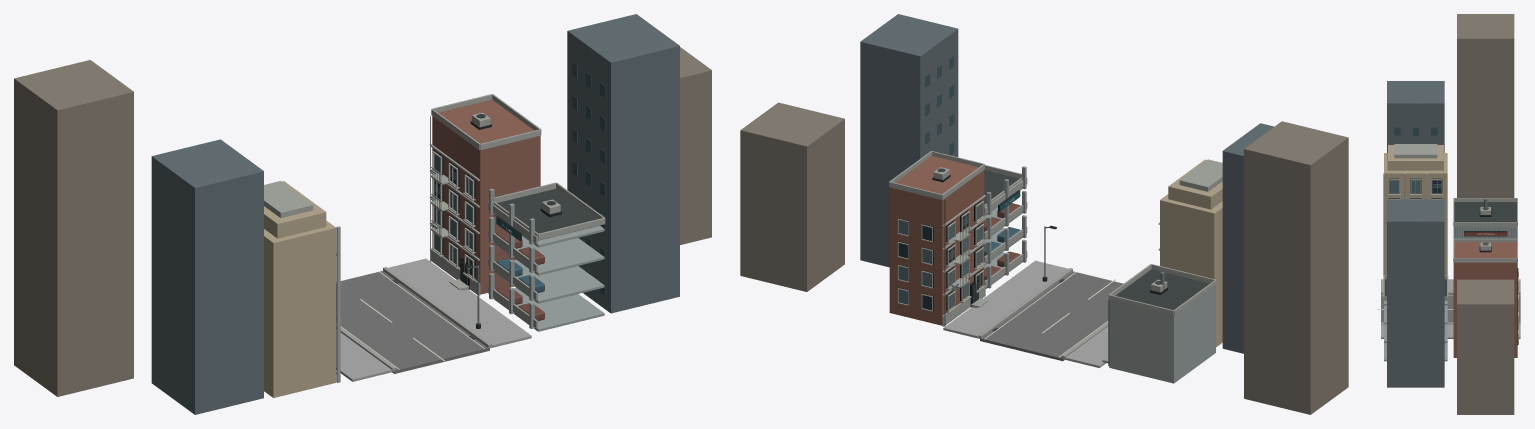
The model's file is city_hd_22.glb.
3 renders of one model, left to right at view 1: azimuth 30°, elevation 25°; view 2: azimuth 150°, elevation 25°; view 3: azimuth 270°, elevation 25°, orthographic. The views are drawn at different scales.
Visible parts, largest first — view 1: CITY_distant_2, CITY_distant_3, CITY_wall_sand, Masonry apartment volume, CITY_PBR_asphalt, CITY_trim, CITY_wall_gray, CITY_PBR_pavement, CITY_roof, CITY_frame, CITY_distant_window, CITY_curb (+3 smaller); view 2: CITY_distant_3, CITY_distant_2, Masonry apartment volume, CITY_wall_gray, CITY_PBR_asphalt, CITY_trim, CITY_wall_sand, CITY_PBR_pavement, CITY_roof, CITY_frame, CITY_glass, CITY_curb (+4 smaller); view 3: CITY_distant_3, CITY_distant_2, CITY_wall_sand, Masonry apartment volume, CITY_trim, CITY_roof, CITY_wall_gray, CITY_frame, CITY_PBR_asphalt, CITY_PBR_pavement, CITY_glass, CITY_recess (+5 smaller).
Boxes of the visible parts, x1,y1,x2,y2 form: CITY_distant_2: [151, 14, 679, 414]; CITY_distant_3: [14, 47, 711, 396]; CITY_wall_sand: [264, 181, 335, 397]; Masonry apartment volume: [432, 99, 540, 294]; CITY_PBR_asphalt: [336, 271, 489, 373]; CITY_trim: [264, 94, 605, 382]; CITY_wall_gray: [489, 188, 604, 331]; CITY_PBR_pavement: [336, 258, 531, 381]; CITY_roof: [480, 150, 601, 240]; CITY_frame: [432, 151, 474, 278]; CITY_distant_window: [572, 62, 605, 295]; CITY_curb: [336, 267, 491, 371]; CITY_distant_3: [740, 102, 1348, 414]; CITY_distant_2: [860, 14, 1273, 353]; Masonry apartment volume: [889, 156, 984, 325]; CITY_wall_gray: [984, 166, 1215, 383]; CITY_PBR_asphalt: [980, 271, 1123, 361]; CITY_trim: [889, 151, 1222, 363]; CITY_wall_sand: [1160, 159, 1222, 346]; CITY_PBR_pavement: [943, 260, 1108, 367]; CITY_roof: [942, 170, 1209, 309]; CITY_frame: [897, 201, 983, 311]; CITY_glass: [898, 203, 982, 309]; CITY_curb: [978, 268, 1108, 359]; CITY_distant_3: [1457, 14, 1514, 414]; CITY_distant_2: [1387, 81, 1444, 387]; CITY_wall_sand: [1384, 145, 1447, 275]; Masonry apartment volume: [1453, 242, 1517, 357]; CITY_trim: [1383, 144, 1517, 300]; CITY_roof: [1384, 202, 1516, 296]; CITY_wall_gray: [1384, 226, 1517, 361]; CITY_frame: [1389, 179, 1518, 344]; CITY_PBR_asphalt: [1381, 294, 1520, 322]; CITY_PBR_pavement: [1381, 279, 1520, 338]; CITY_glass: [1390, 180, 1420, 193]; CITY_recess: [1389, 178, 1517, 344].
Size of the model in its own units: 57.3 by 24.26 by 16.4.
